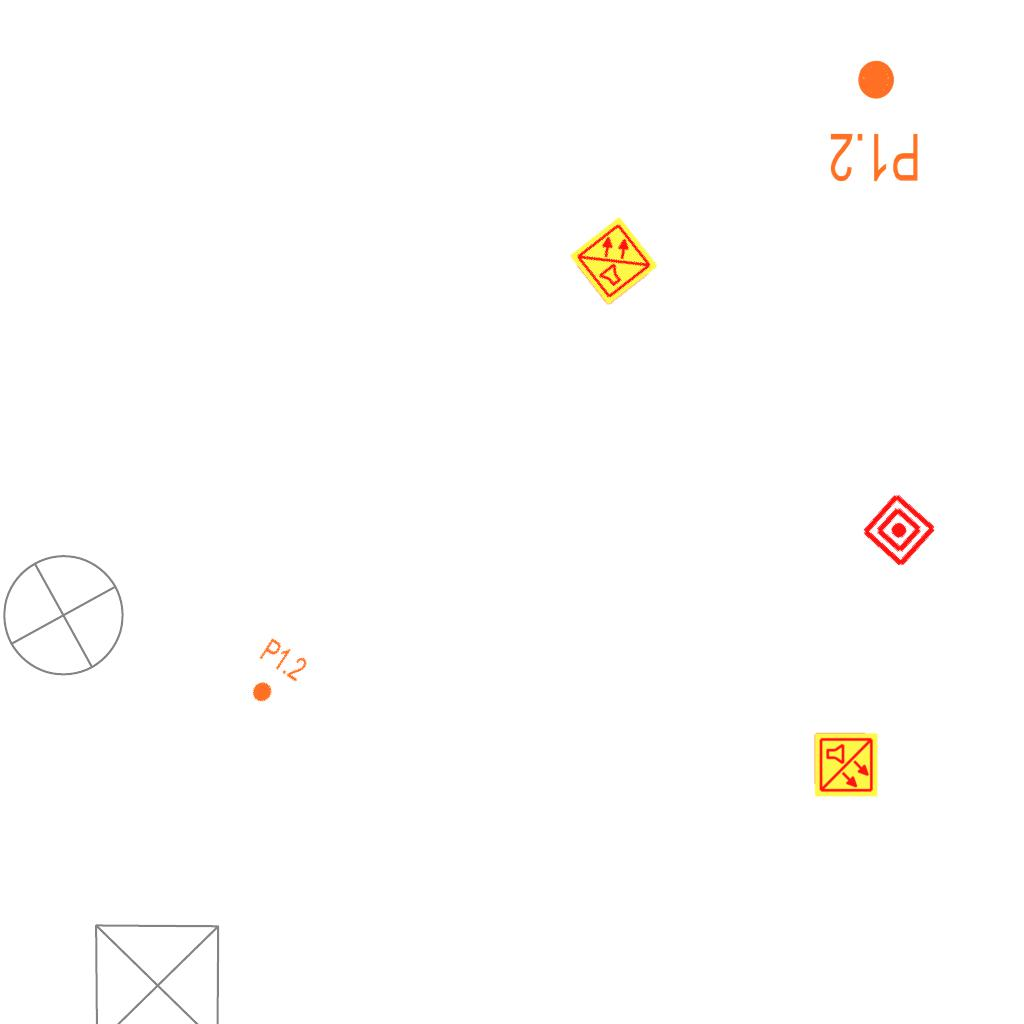Downlight_LED_Einbauleuchten_Flur: (828, 57, 921, 185), (237, 635, 311, 715)
NAM-Nichtautomatischer_Melder: (859, 490, 939, 570)
OKW_Multisensormelder_(Kombination_optischer_Rauch-Kahlenmonoxid_Waerme-Melder): (567, 214, 661, 308), (813, 732, 879, 798)
